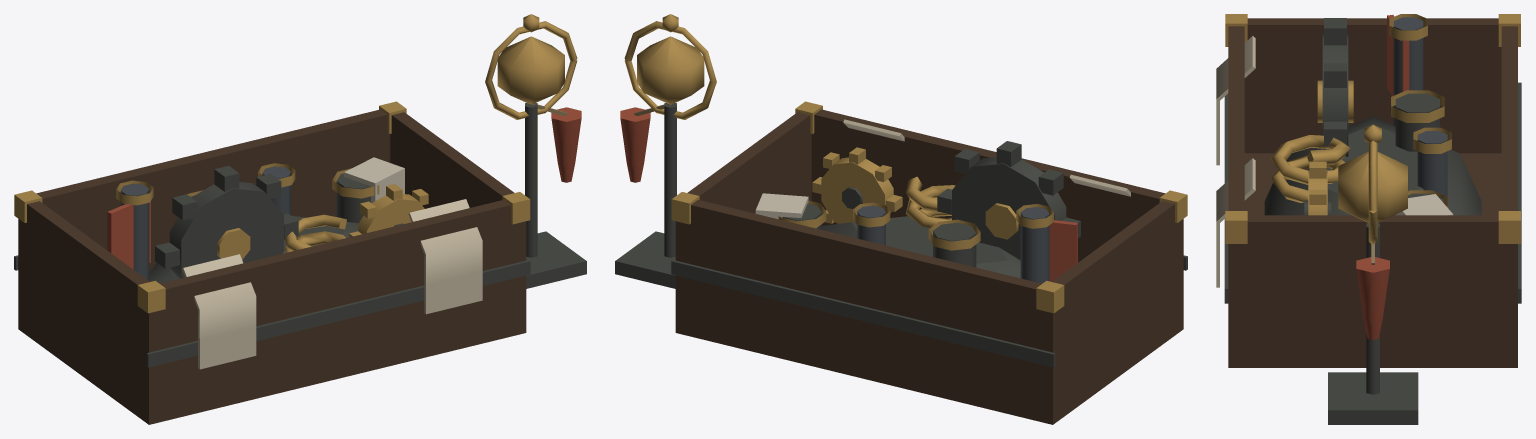
File: junk_goods.glb
3 renders of one model, left to right at view 1: azimuth 30°, elevation 25°; view 2: azimuth 150°, elevation 25°; view 3: azimuth 270°, elevation 25°, orthographic. The views are drawn at different scales.
Parts seen in each view (by area): view 1: junk_goods; view 2: junk_goods; view 3: junk_goods.
Boxes of the visible parts, x1,y1,x2,y2 form: junk_goods: (14,14,586,424); junk_goods: (615,14,1187,424); junk_goods: (1216,14,1521,424).
Bounding box in the file's own units: 1.99 × 0.965 × 0.95.
